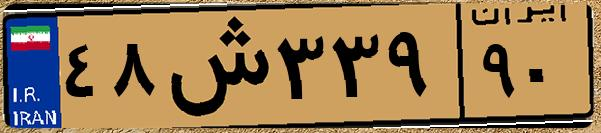0: (525, 38, 570, 115)
3: (270, 28, 330, 110), (330, 28, 385, 110)
4: (57, 26, 110, 100)
8: (110, 28, 158, 98)
9: (385, 28, 445, 110), (475, 38, 525, 113)
ش: (158, 12, 270, 120)
